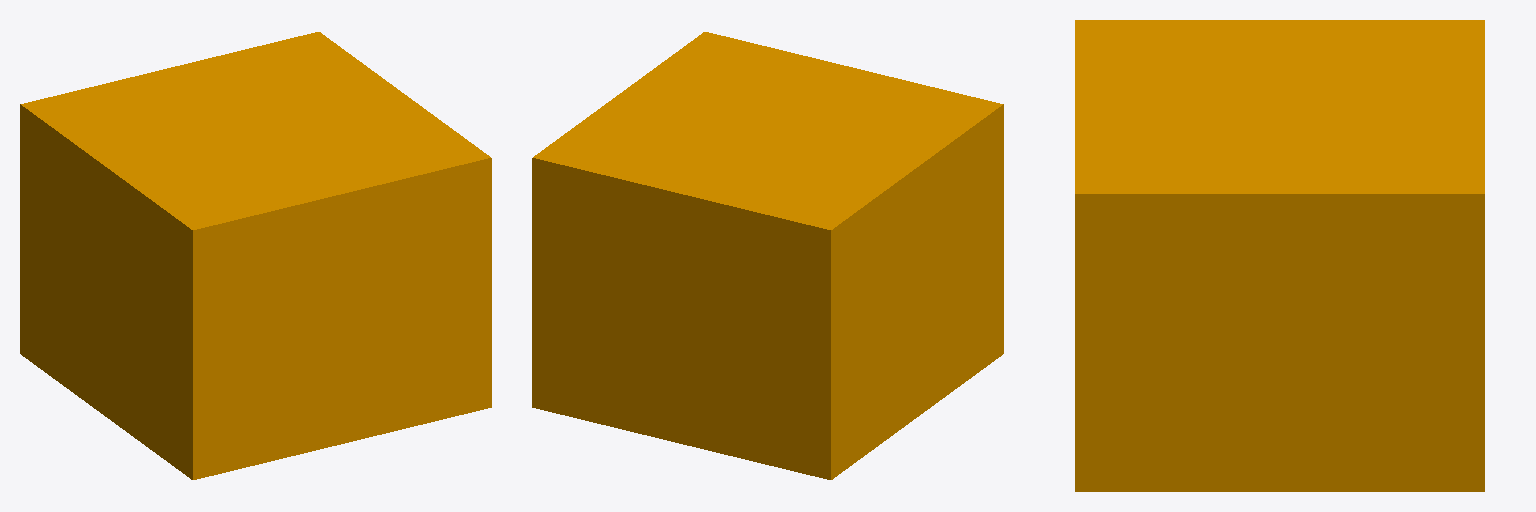
robot.urdf — object:
<?xml version="0.0"?>
	<robot name="object">
		<link name="object">
			<visual>
				<origin xyz="0 0 0"/>
				<geometry>
					<box size="0.5 0.5 0.4"/>
				</geometry>
			</visual>
			<inertial>
				<mass value="10.000"/>
			</inertial>
			<collision>
				<origin xyz="0 0 0"/>
				<geometry>
					<box size="0.5 0.5 0.4"/>
				</geometry>
			</collision>
		</link>

	</robot>

--- Facts derived from the render (not from the file) ---
3 views of the same robot in one strip: view 1: azimuth 30°, elevation 25°; view 2: azimuth 150°, elevation 25°; view 3: azimuth 270°, elevation 25° (orthographic).
Robot: object — 1 links, 0 joints (none); root link object; default pose: every joint at zero.
Visible links, largest first — view 1: object; view 2: object; view 3: object.
Boxes of the visible links, x1,y1,x2,y2 form: object: (20,32,491,479); object: (532,32,1003,479); object: (1075,20,1484,491).
Size in the robot's own frame: 0.5 by 0.5 by 0.4 metres.
Geometry: primitives only (box / cylinder / sphere), no mesh files.